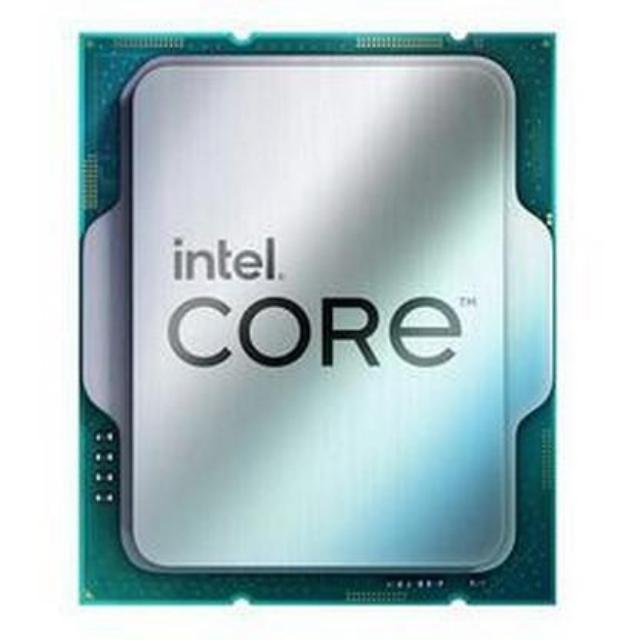CPU: (86, 38, 512, 593)
